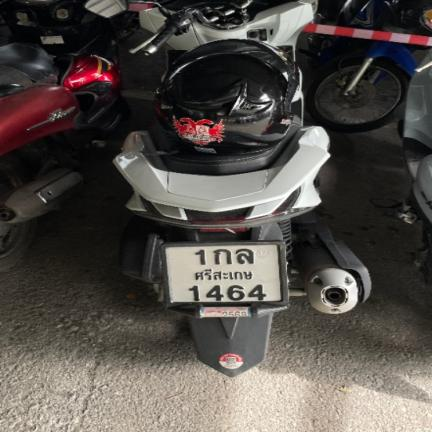1: (194, 248, 208, 266), (187, 285, 202, 301)
4: (246, 283, 269, 301), (204, 285, 225, 300)
6: (227, 284, 247, 302)
A01: (212, 248, 233, 266)
A36: (234, 248, 256, 265)
SSK: (193, 267, 255, 281)
